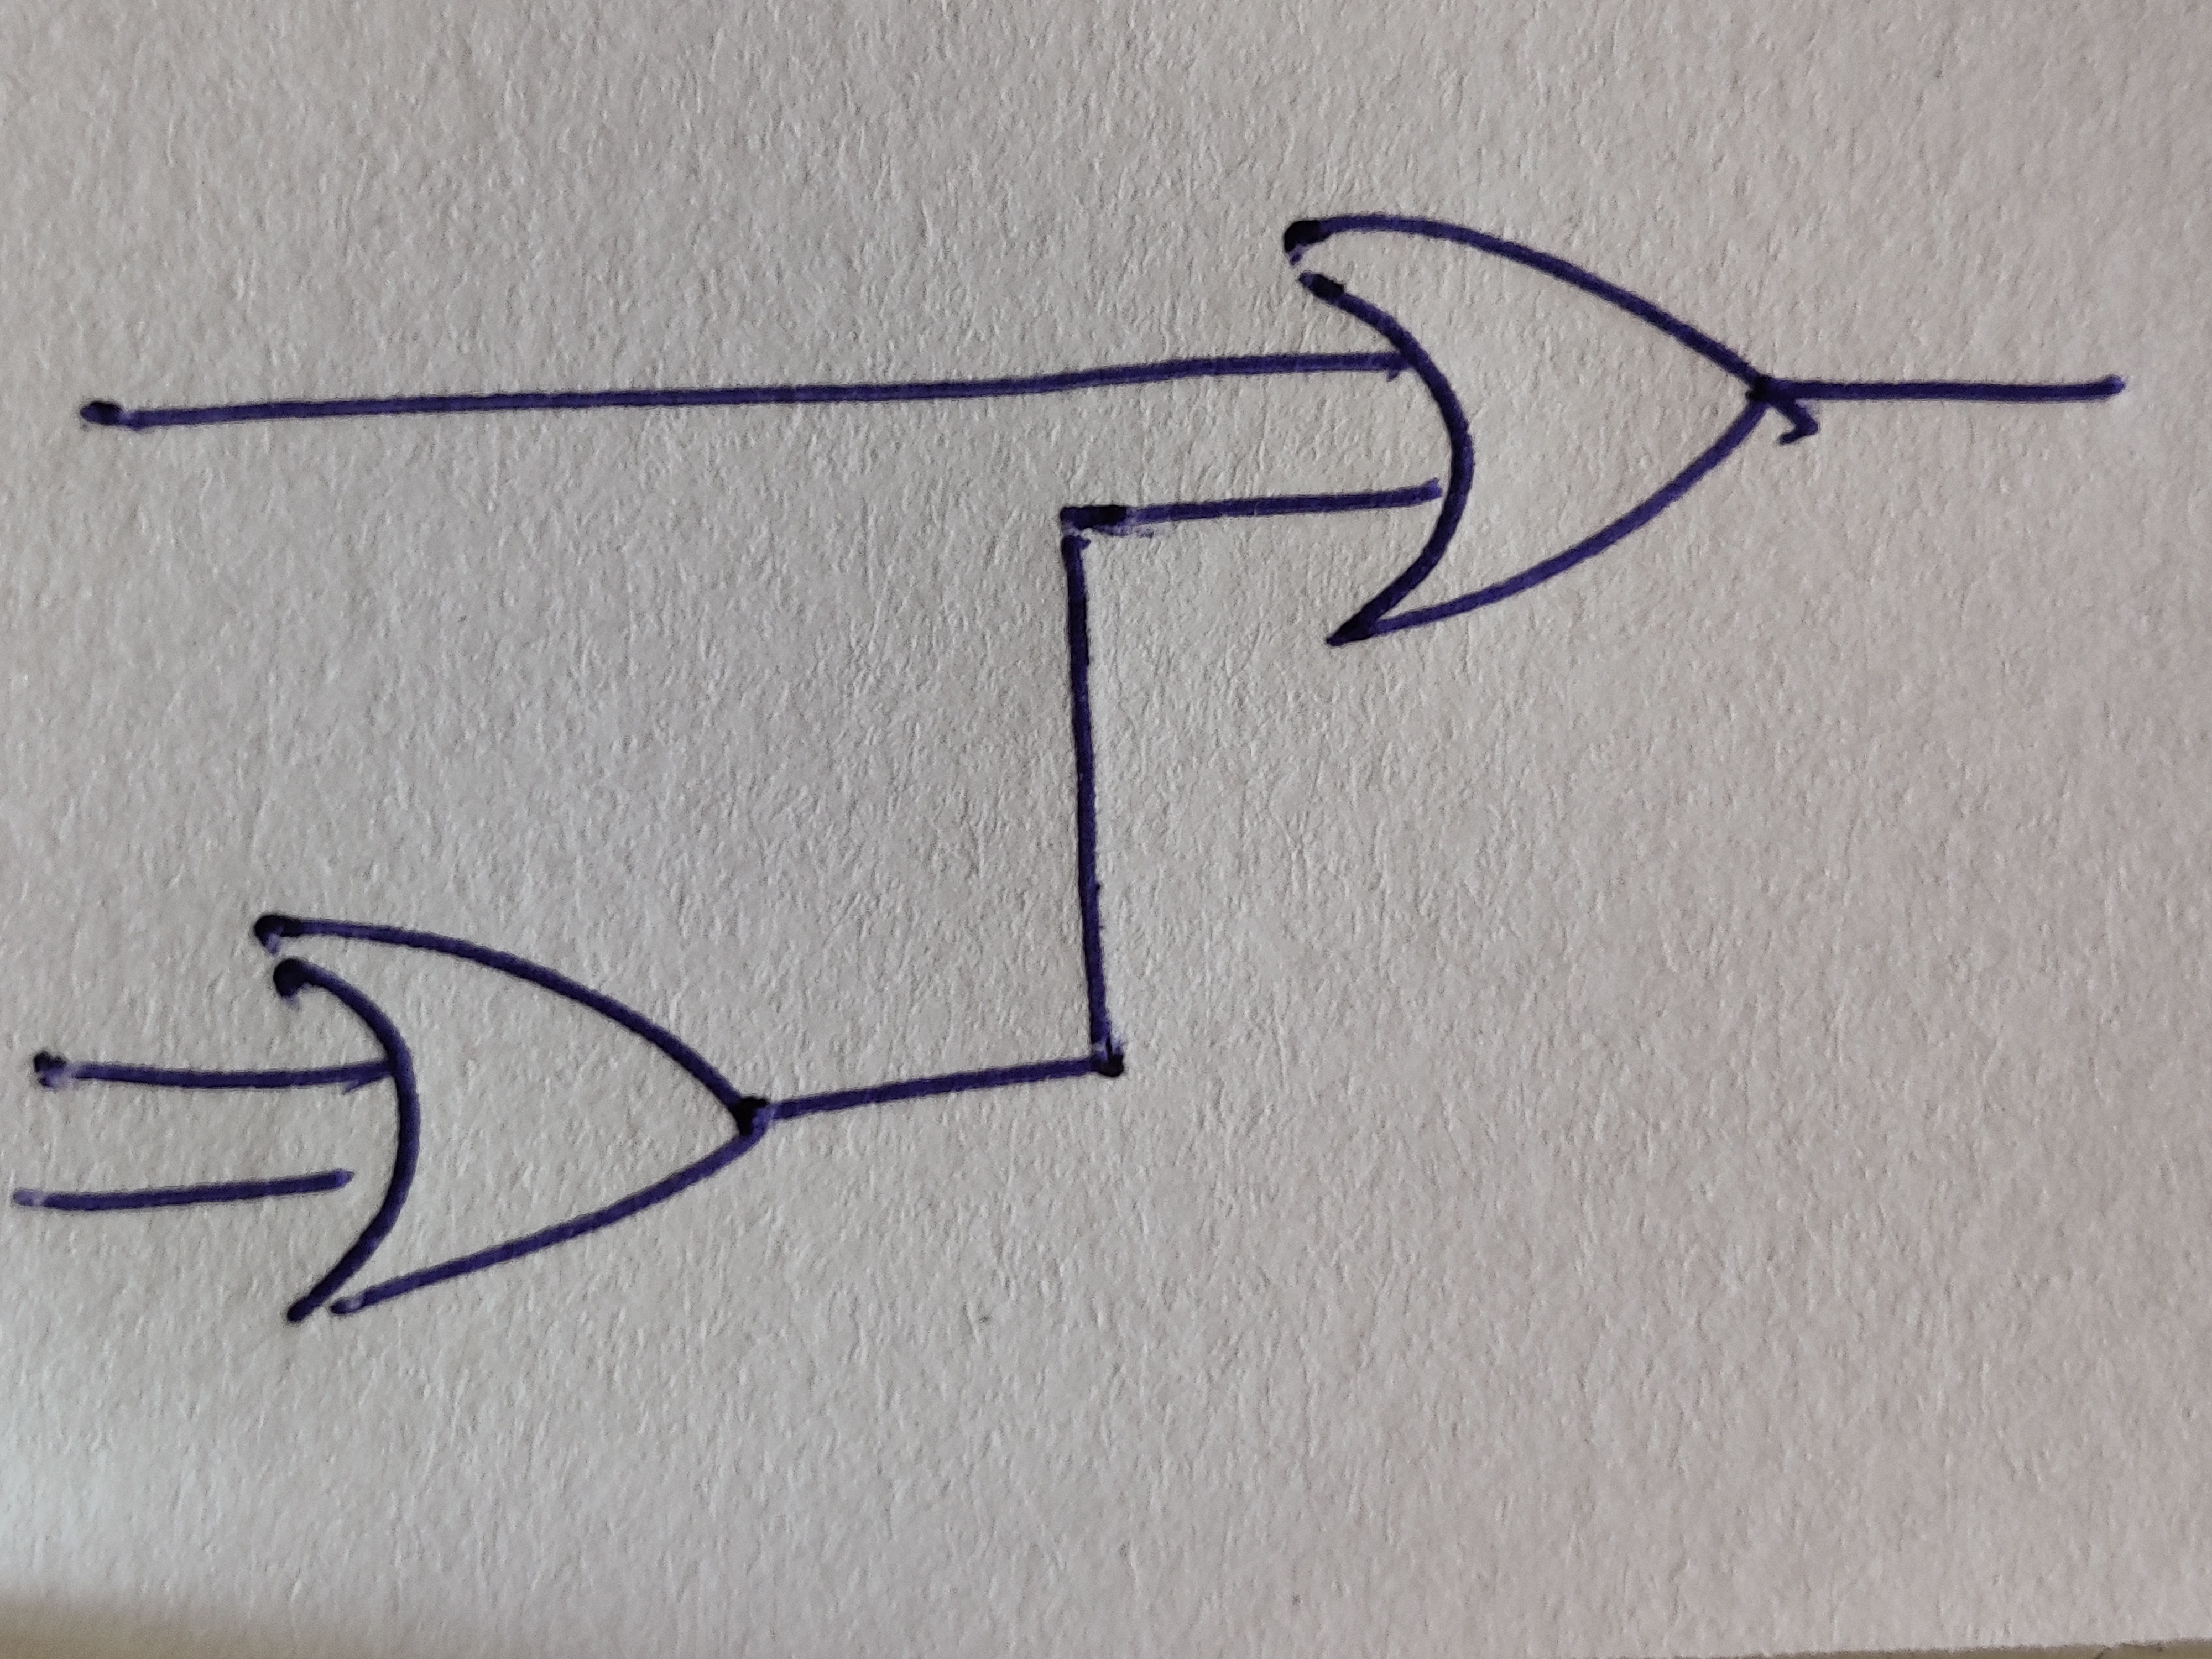or: (1282, 213, 1777, 647), (253, 913, 773, 1324)
